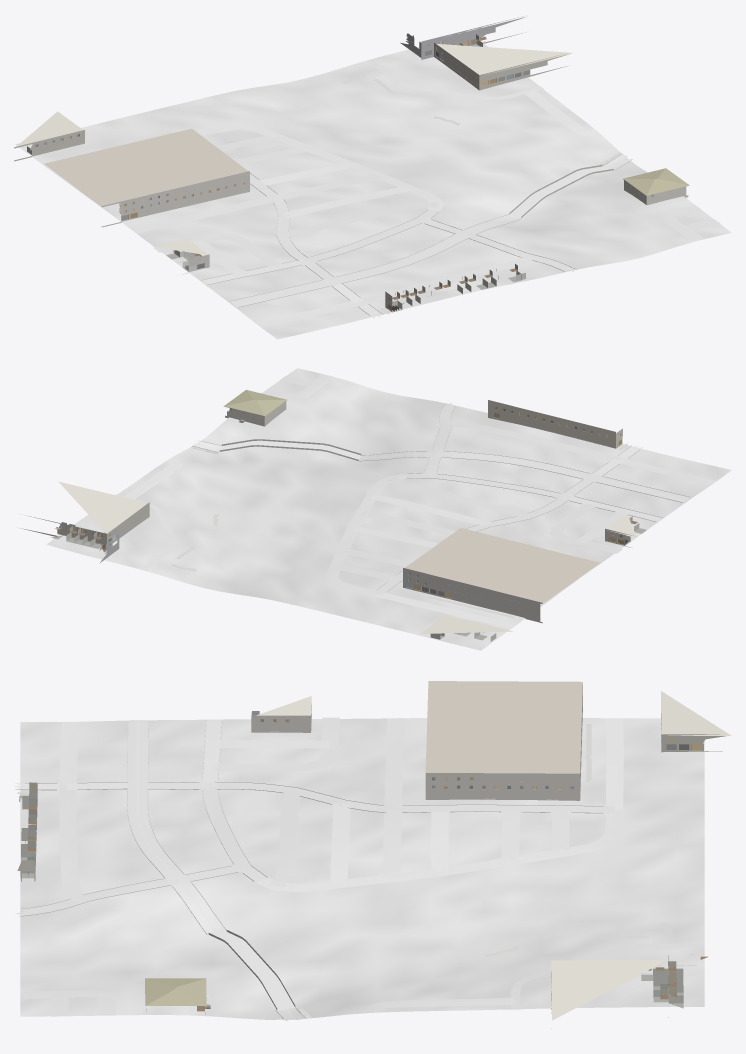
3 renders of one model, top to bottom at view 1: azimuth 30°, elevation 25°; view 2: azimuth 150°, elevation 25°; view 3: azimuth 270°, elevation 25°, orthographic. The views are drawn at different scales.
Visible parts, largest first — view 1: ground, concrete, roof_flat, wall_com, asphalt, curb, room, roof, wall_stucco; view 2: ground, concrete, roof_flat, wall_com, asphalt, curb, roof, room, bridge, wall_stucco, walk; view 3: ground, concrete, roof_flat, wall_com, asphalt, room, curb, roof, walk, mark_y.
Boxes of the visible parts, bbox=[...] form: ground: bbox=[15, 43, 731, 339]; concrete: bbox=[48, 59, 720, 327]; roof_flat: bbox=[16, 44, 572, 254]; wall_com: bbox=[14, 16, 569, 311]; asphalt: bbox=[230, 154, 632, 307]; curb: bbox=[201, 153, 631, 315]; room: bbox=[27, 27, 525, 312]; roof: bbox=[623, 168, 688, 195]; wall_stucco: bbox=[624, 180, 688, 205]; ground: bbox=[46, 368, 731, 650]; concrete: bbox=[115, 375, 714, 628]; roof_flat: bbox=[58, 481, 636, 633]; wall_com: bbox=[19, 400, 633, 623]; asphalt: bbox=[192, 440, 690, 502]; curb: bbox=[192, 403, 690, 591]; roof: bbox=[224, 390, 286, 415]; room: bbox=[51, 409, 646, 641]; bridge: bbox=[219, 439, 361, 460]; wall_stucco: bbox=[225, 401, 286, 426]; walk: bbox=[171, 444, 627, 617]; ground: bbox=[20, 718, 704, 1019]; concrete: bbox=[14, 717, 704, 1016]; roof_flat: bbox=[256, 681, 731, 1020]; wall_com: bbox=[17, 685, 726, 1028]; asphalt: bbox=[127, 721, 305, 1020]; room: bbox=[19, 711, 708, 1011]; curb: bbox=[15, 719, 603, 1019]; roof: bbox=[145, 978, 206, 1005]; walk: bbox=[17, 724, 671, 1018]; mark_y: bbox=[137, 721, 294, 1018].
Bounding box in the file's own units: 287 × 18.32 × 262.
